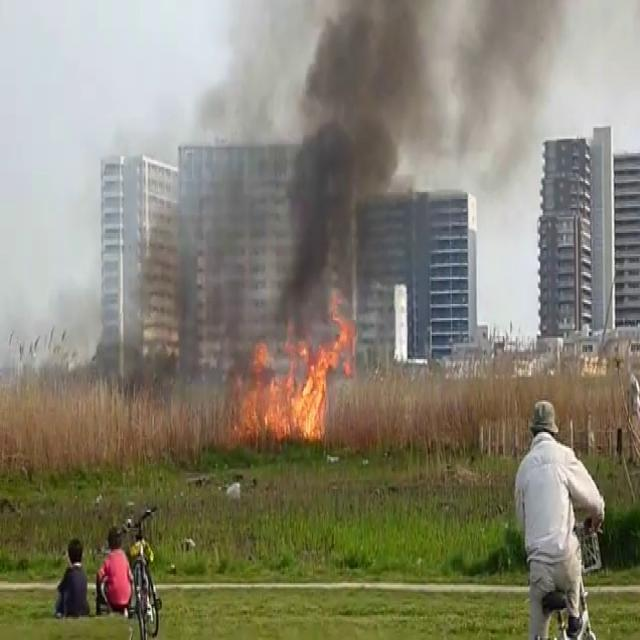Fire: (235, 311, 348, 448)
Smoke: (169, 0, 542, 398)
